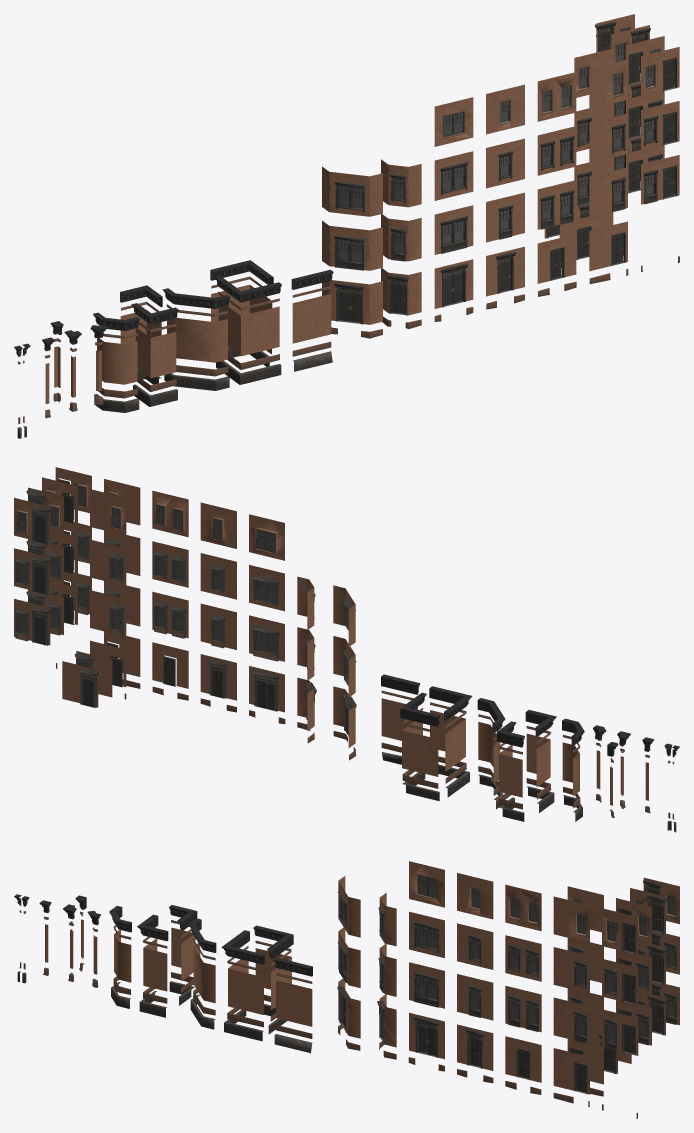
The model's file is modular_urban_apartments_facade.glb.
3 renders of one model, top to bottom at view 1: azimuth 30°, elevation 25°; view 2: azimuth 150°, elevation 25°; view 3: azimuth 330°, elevation 25°, orthographic. The views are drawn at different scales.
Parts seen in each view (by area): view 1: wall_door_centered_large_01, door_angled_small_01, door_window_small_09, crown_standard_angled_large_01; view 2: wall_door_centered_large_01, door_angled_small_01, door_window_small_09, crown_standard_angled_large_01; view 3: wall_door_centered_large_01, door_angled_small_01, door_window_small_09, crown_standard_angled_large_01.
Boxes of the visible parts, x1,y1,x2,y2 form: wall_door_centered_large_01: (45,14,679,404); door_angled_small_01: (334,21,677,324); door_window_small_09: (17,26,679,438); crown_standard_angled_large_01: (14,260,333,356); wall_door_centered_large_01: (14,467,648,805); door_angled_small_01: (15,478,356,735); door_window_small_09: (45,489,676,832); crown_standard_angled_large_01: (381,674,679,757); wall_door_centered_large_01: (45,861,679,1094); door_angled_small_01: (337,875,677,1093); door_window_small_09: (17,874,675,1118); crown_standard_angled_large_01: (14,894,312,976).
Bounding box in the file's own units: 51.53 × 17 × 6.66.
Materials: 5 (5 with a texture image).
